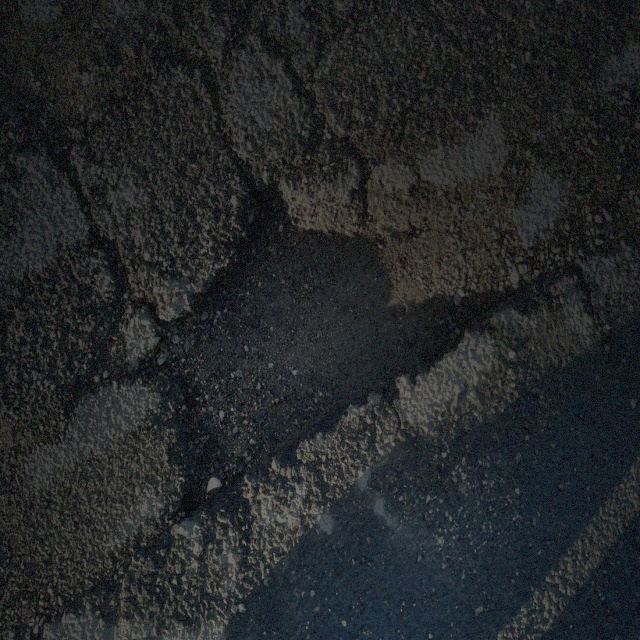pothole: (154, 168, 441, 544)
